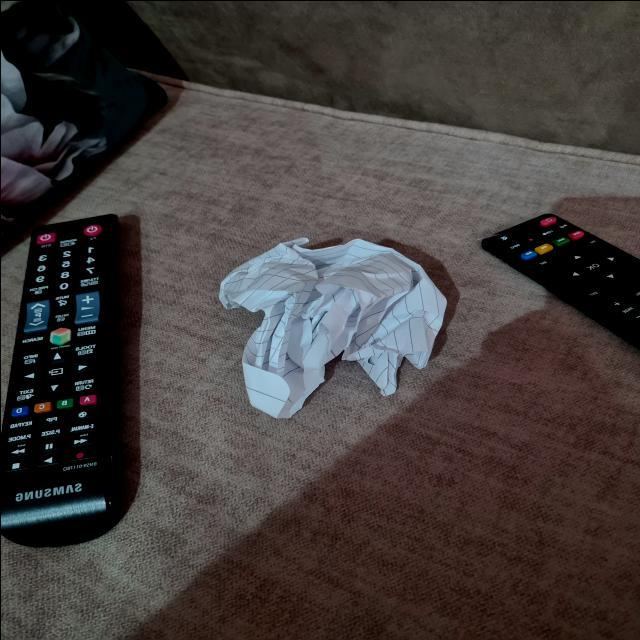Paper: (180, 206, 470, 436)
